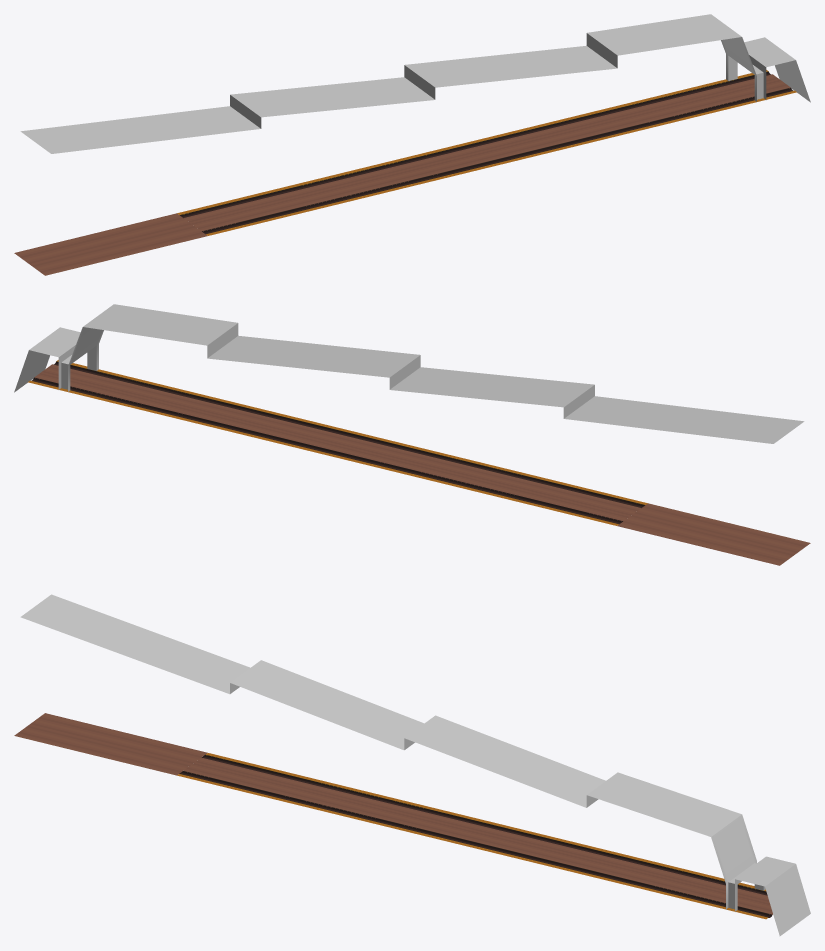
File: BowlingLane.fbx
3 renders of one model, top to bottom at view 1: azimuth 30°, elevation 25°; view 2: azimuth 150°, elevation 25°; view 3: azimuth 330°, elevation 25°, orthographic.
Visible parts, largest first — view 1: Lane_StandingArea; view 2: Lane_StandingArea; view 3: Lane_StandingArea.
Boxes of the visible parts, bbox=[...] form: Lane_StandingArea: bbox=[14, 14, 810, 275]; Lane_StandingArea: bbox=[14, 304, 810, 565]; Lane_StandingArea: bbox=[14, 594, 810, 936].
Size of the model in its own units: 2569 by 430 by 181.
